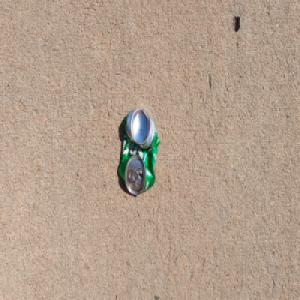SodaCan: (117, 106, 160, 197)
